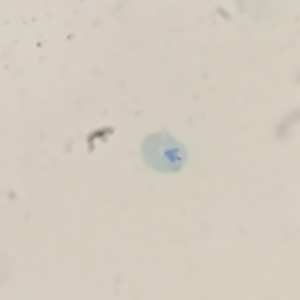erythrocyte: (138, 127, 191, 176)
